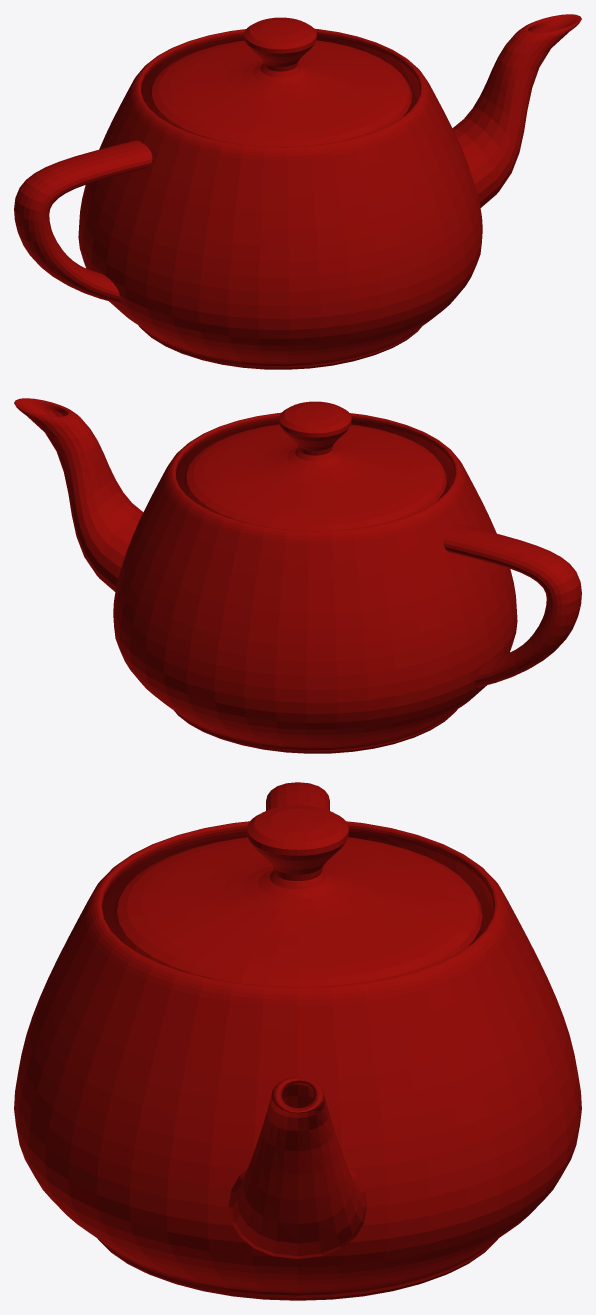
Rendered from teapot.obj.
3 renders of one model, top to bottom at view 1: azimuth 30°, elevation 25°; view 2: azimuth 150°, elevation 25°; view 3: azimuth 270°, elevation 25°, orthographic. The views are drawn at different scales.
Bounding box in the file's own units: 6.43 × 3.15 × 4.
